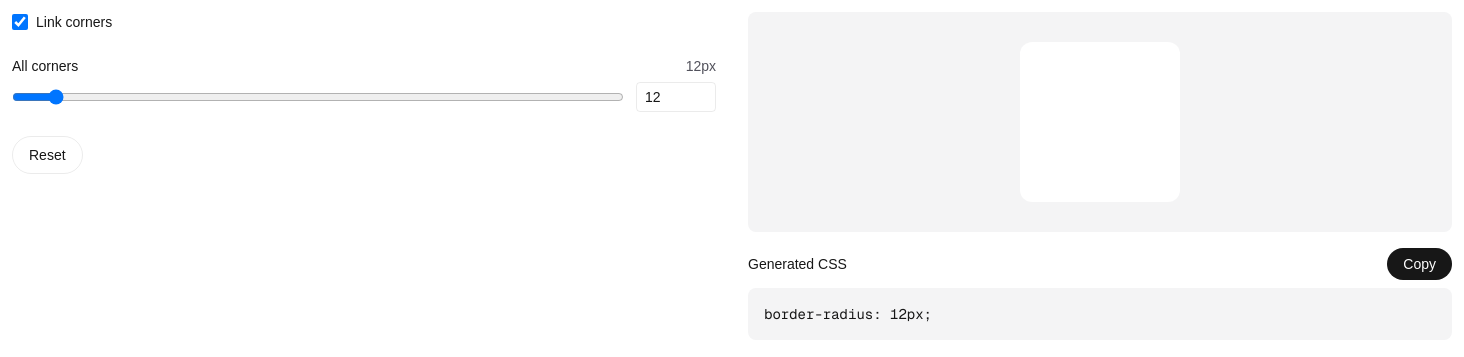
Scenario: BorderRadiusGenerator › updates all corners together while linked
This screenshot has width=1464, height=357.
Set the slider labelled "All corners" to "40". click: (139, 97)
box: left=12, top=89, right=624, bottom=105
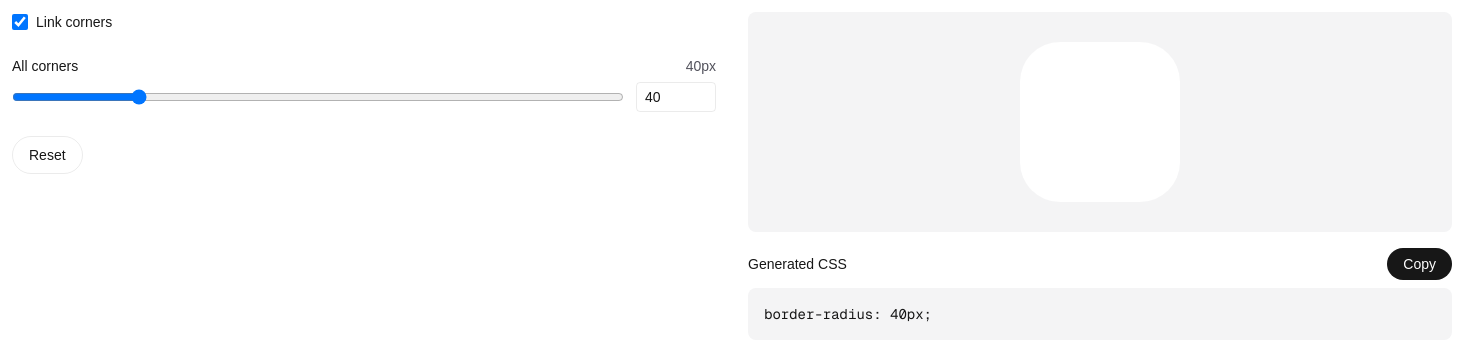
Check: the text "border-radius: 40px;" is shown, box left=748, top=288, right=1452, bottom=340
